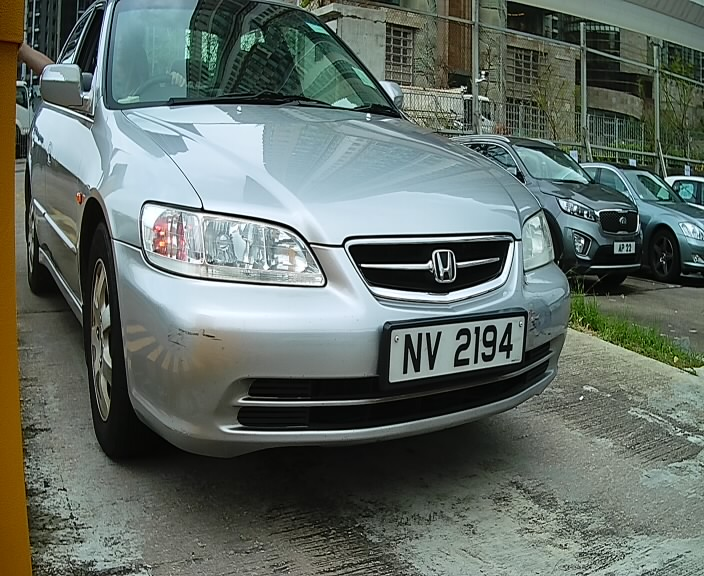Car: (2, 2, 596, 485)
License Plate: (372, 308, 532, 385)
